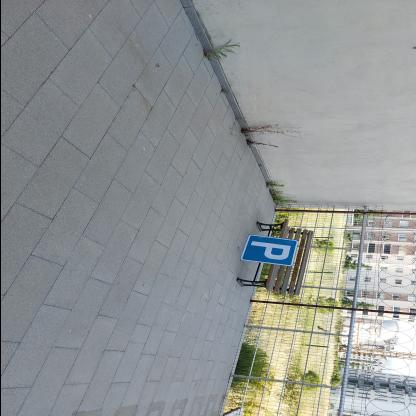Parking-Sign: (241, 236, 299, 268)
